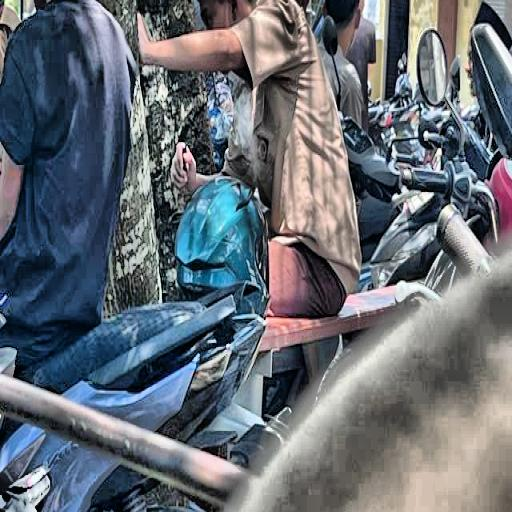Rokok: (139, 0, 357, 316)
